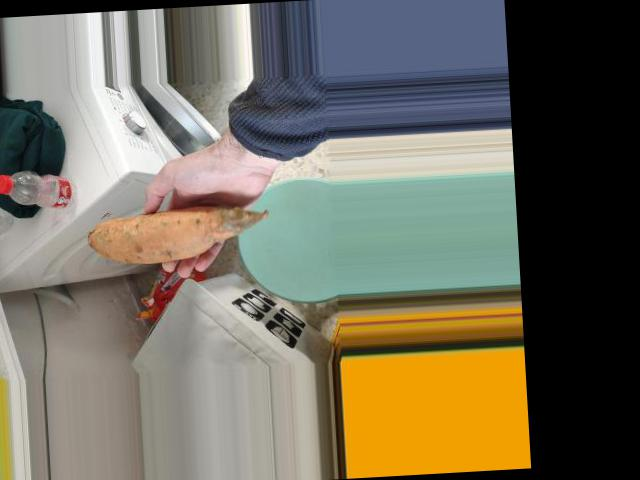sweet_potato: (101, 200, 260, 255)
